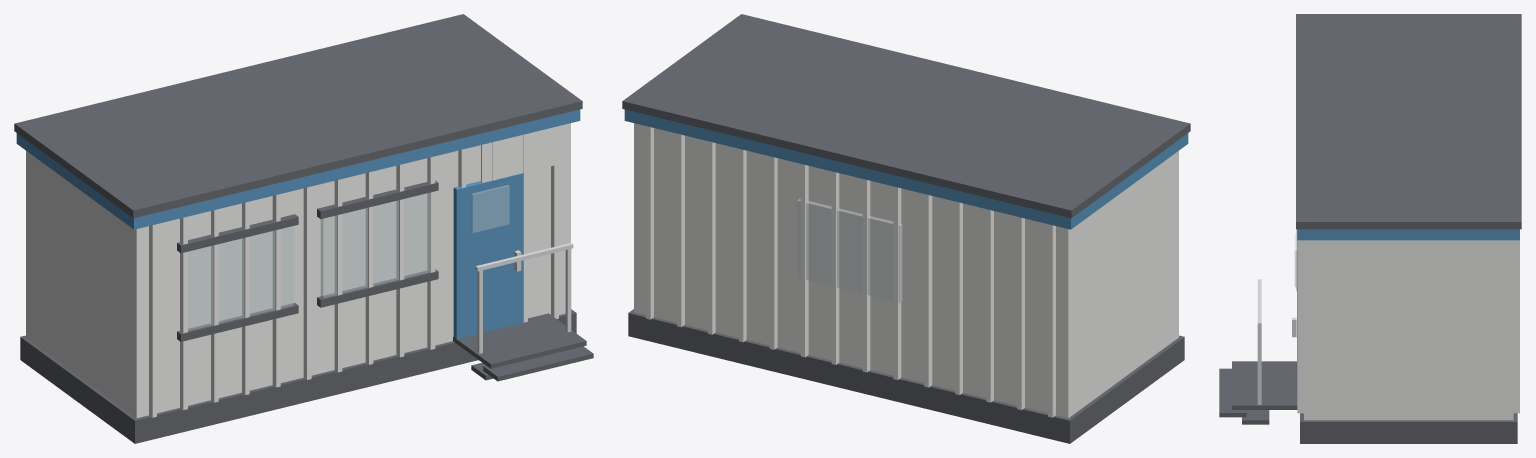
File: shipyard-and-dry-dock-shipyard-and-dry-dock-site-offic-1989bef0__37961.glb
3 views of the same model, side by side, from view 1: azimuth 30°, elevation 25°; view 2: azimuth 150°, elevation 25°; view 3: azimuth 270°, elevation 25° (orthographic). The views are drawn at different scales.
Parts seen in each view (by area): view 1: shipyard-and-dry-dock-site-office-cabin, cabin-door/blue, cabin-door/glass; view 2: shipyard-and-dry-dock-site-office-cabin; view 3: shipyard-and-dry-dock-site-office-cabin.
Part boxes in pixels (bbox=[...]): shipyard-and-dry-dock-site-office-cabin: bbox=[14, 14, 593, 443]; cabin-door/blue: bbox=[453, 173, 522, 338]; cabin-door/glass: bbox=[471, 185, 509, 232]; shipyard-and-dry-dock-site-office-cabin: bbox=[622, 14, 1190, 443]; shipyard-and-dry-dock-site-office-cabin: bbox=[1219, 14, 1521, 443].
Size of the model in its own units: 6.1 by 3.06 by 3.75.
